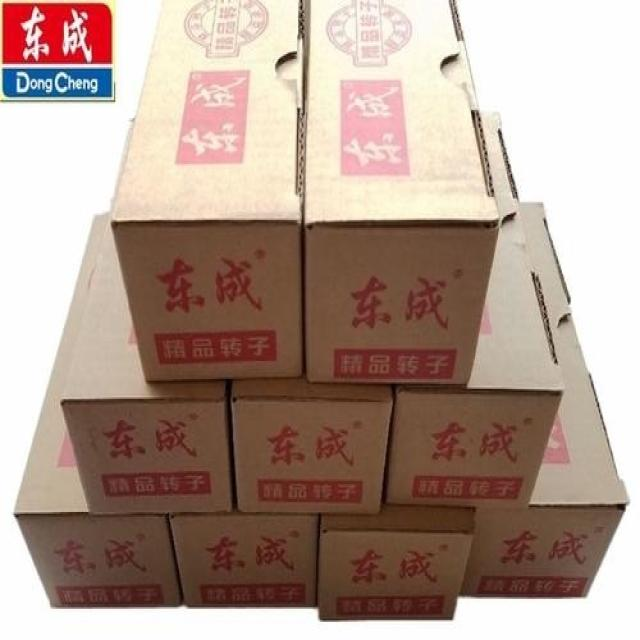box: (305, 0, 500, 387), (110, 0, 305, 381), (387, 110, 564, 510), (458, 202, 630, 597), (14, 210, 182, 610), (61, 210, 233, 515), (230, 377, 392, 514), (320, 502, 475, 619), (170, 514, 317, 607)
